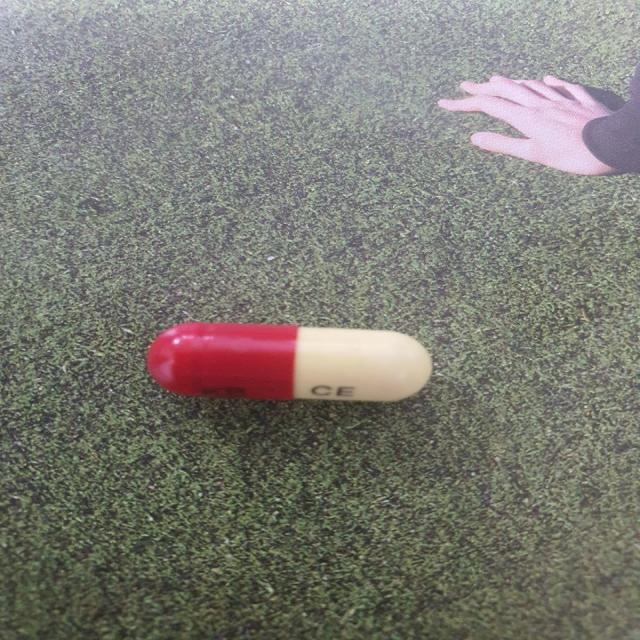pill: (138, 311, 448, 413)
